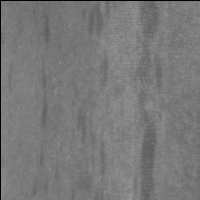inclusion: (131, 2, 166, 200), (88, 125, 114, 188), (34, 53, 54, 130), (93, 43, 115, 94), (71, 105, 96, 147), (83, 1, 107, 42), (39, 7, 58, 54), (4, 56, 21, 100), (32, 138, 51, 171)
